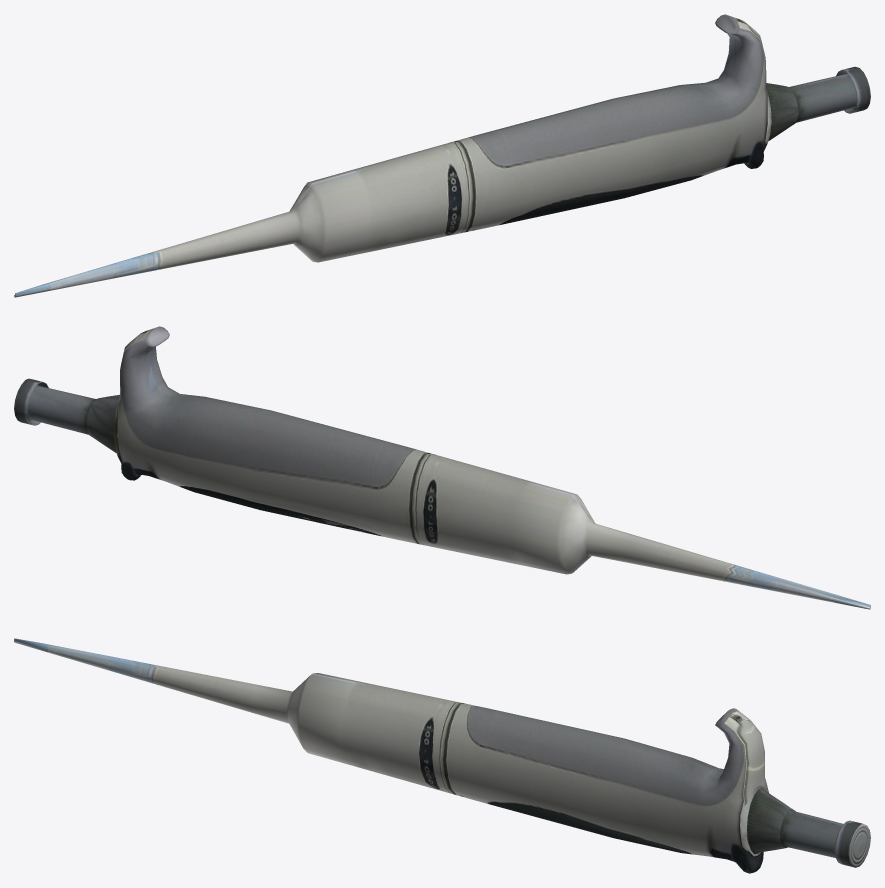
File: pipette02.fbx
The picture shows the model from 3 angles, top to bottom: view 1: azimuth 30°, elevation 25°; view 2: azimuth 150°, elevation 25°; view 3: azimuth 330°, elevation 25°; orthographic projection.
Visible parts, largest first — view 1: pipette02; view 2: pipette02; view 3: pipette02.
Part boxes in pixels (left/top/right/bottom): pipette02: left=14, top=14, right=870, bottom=297; pipette02: left=14, top=326, right=870, bottom=609; pipette02: left=14, top=638, right=870, bottom=873.
Bounding box in the file's own units: 0.2034 × 0.036 × 0.0124.
